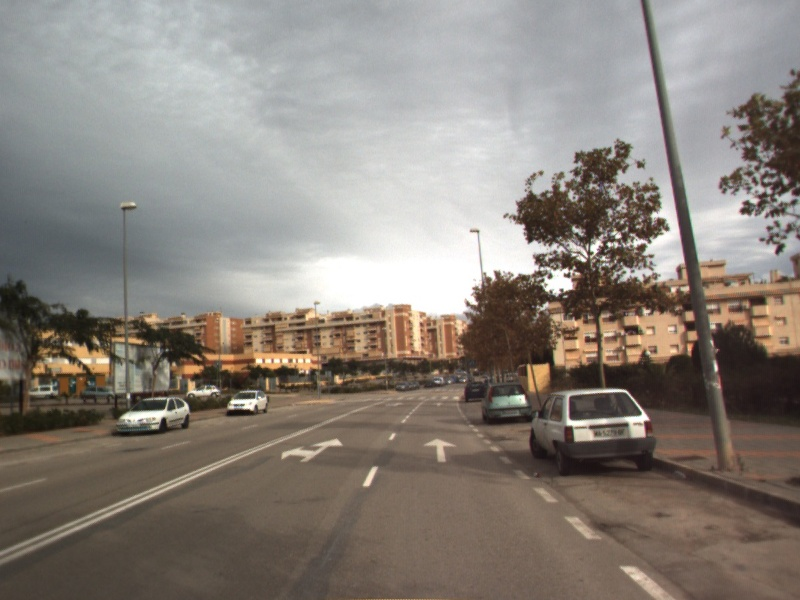STRAIGHT: (422, 436, 459, 464)
STRAIGHT_LEFT: (278, 436, 345, 464)
